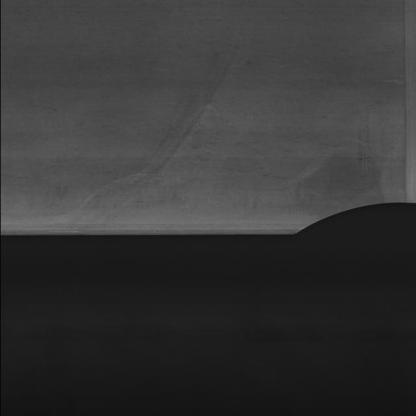crescent_gap: (273, 193, 416, 263)
welding_line: (390, 0, 416, 213)
